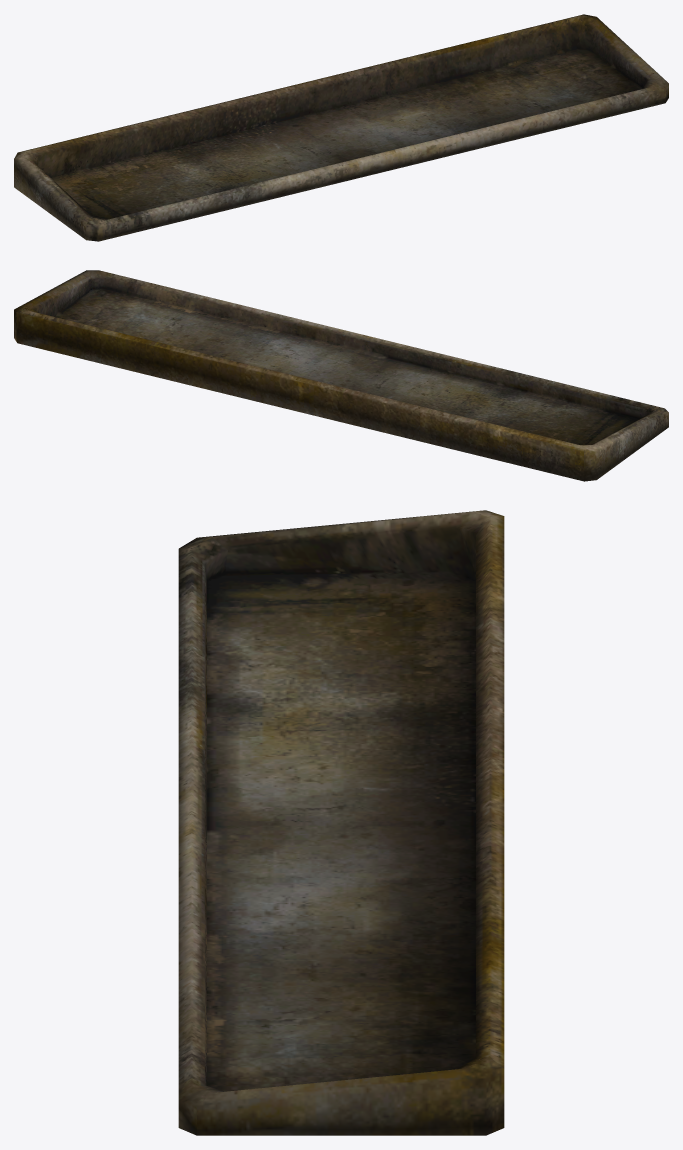
Rendered from bathRoom28.FBX.
3 views of the same model, one above another, from view 1: azimuth 30°, elevation 25°; view 2: azimuth 150°, elevation 25°; view 3: azimuth 270°, elevation 25° (orthographic). The views are drawn at different scales.
Visible parts, largest first — view 1: SM_Bathroom28; view 2: SM_Bathroom28; view 3: SM_Bathroom28.
Boxes of the visible parts, left/top/right/bottom form: SM_Bathroom28: left=14, top=14, right=668, bottom=241; SM_Bathroom28: left=14, top=270, right=668, bottom=481; SM_Bathroom28: left=178, top=510, right=504, bottom=1135.
Bounding box in the file's own units: 71.17 × 3.72 × 17.21.
Materials: 1 (1 with a texture image).
